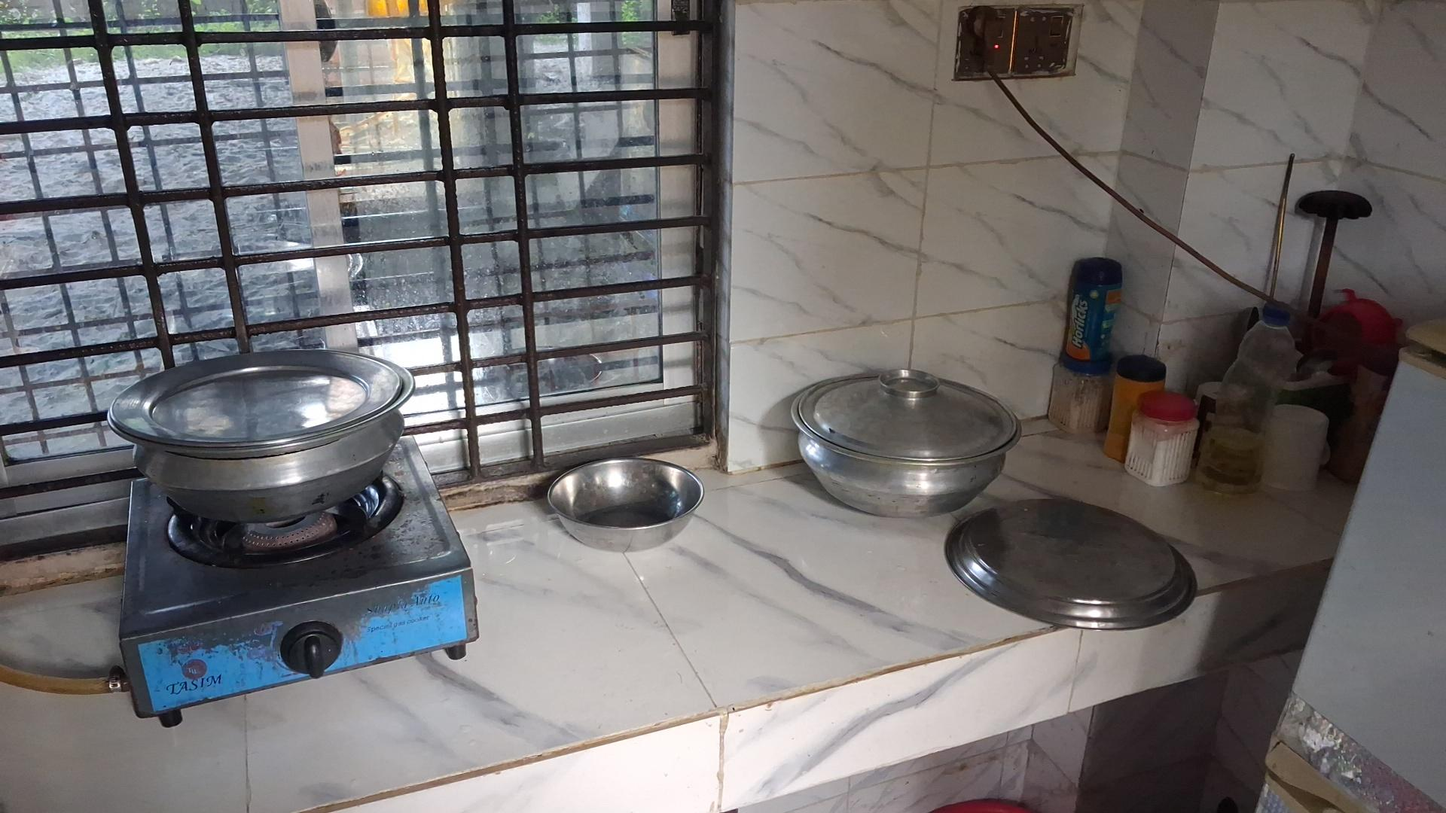Bottle: (1195, 304, 1297, 494)
Bowl: (548, 456, 704, 552)
Cup: (1259, 403, 1330, 492)
Jar: (1131, 391, 1195, 488), (1060, 259, 1117, 357), (1050, 350, 1111, 436)
Plate: (945, 499, 1198, 622)
Pot: (106, 355, 411, 527), (787, 360, 1026, 517)
